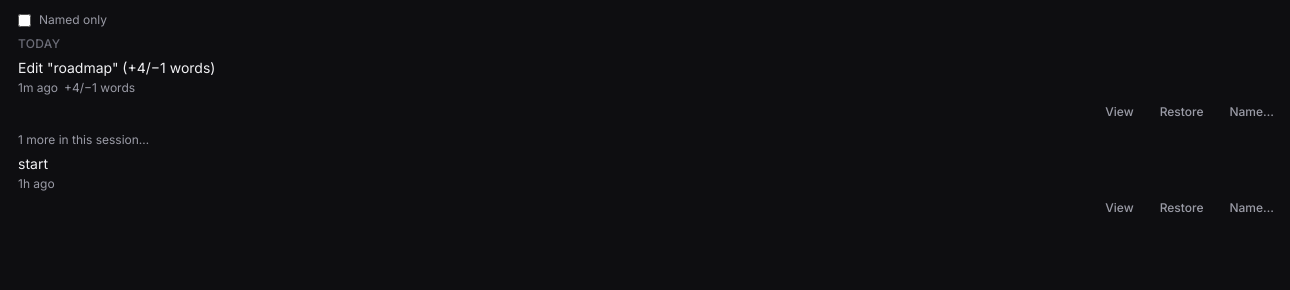
Scenario: HistoryList (Versions browser) › groups by day with relative headers and collapses sessions
Expected: the text "Today" is shown, [18,36,60,51]
Expected: the text "Edit \"roadmap\" (+4/−1 words)" is shown, [18,59,215,76]
Click the button "1 more in this session…": x=84, y=140 [12,132,155,148]
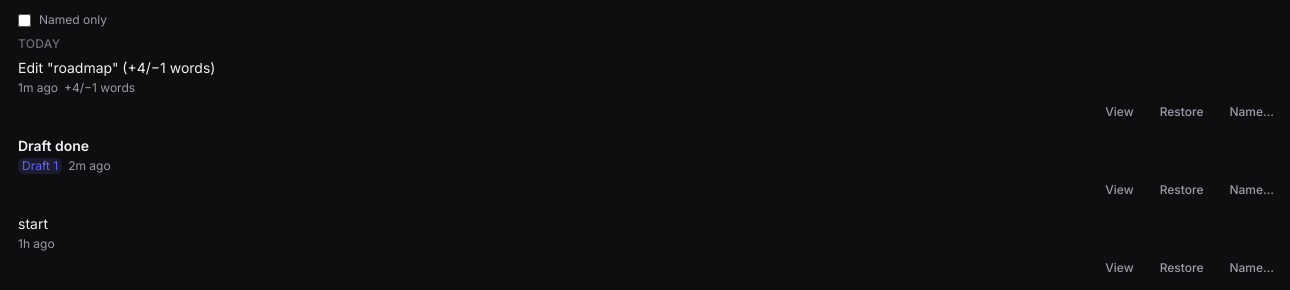
Expected: the text "start" is shown, [18,215,48,232]
Expected: the text "Draft done" is shown, [18,137,89,154]
